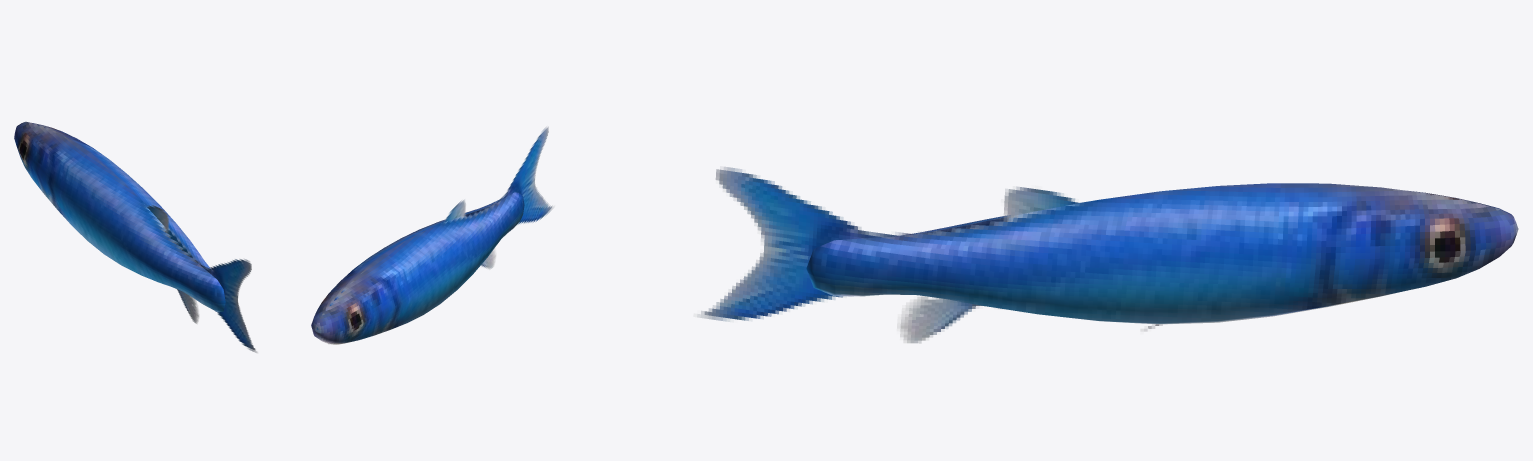
Rendered from blue.glb.
The picture shows the model from 3 angles, left to right: view 1: azimuth 30°, elevation 25°; view 2: azimuth 150°, elevation 25°; view 3: azimuth 270°, elevation 25°; orthographic projection. The views are drawn at different scales.
Visible parts, largest first — view 1: Cube, Plane; view 2: Cube, Plane; view 3: Cube, Plane.
Part boxes in pixels (box(x1,y1,x2,y2)): Cube: box(14, 121, 225, 312); Plane: box(147, 205, 257, 352); Cube: box(311, 192, 524, 344); Plane: box(444, 126, 554, 269); Cube: box(806, 183, 1518, 324); Plane: box(694, 166, 1162, 343).
Size of the model in its own units: 0.6677 by 2.92 by 5.56.
1 material, 1 textured.
